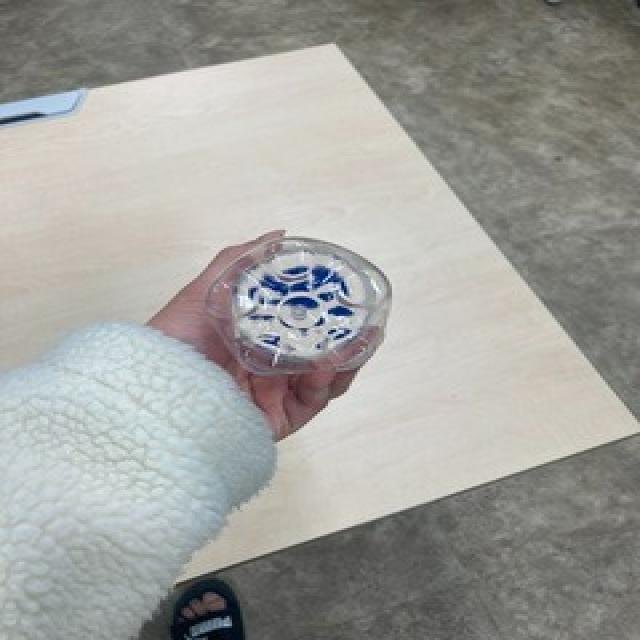good: (201, 219, 396, 395)
